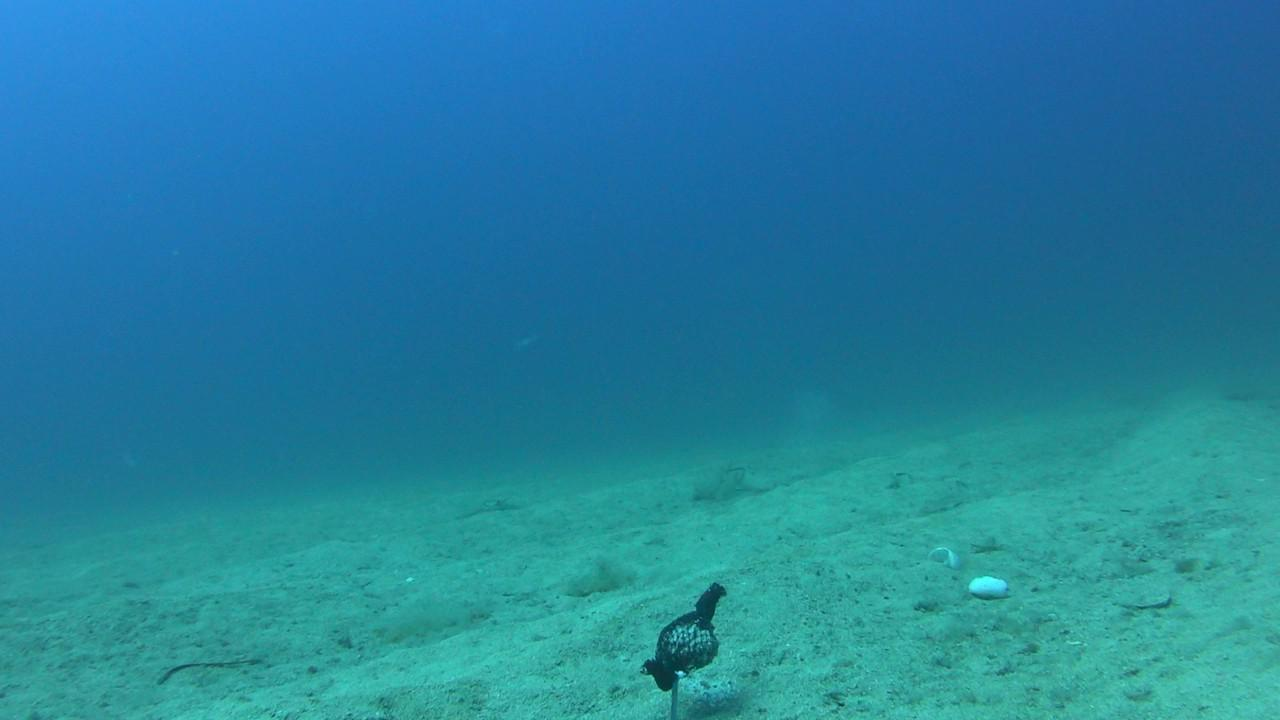myliobatis: (456, 472, 554, 530)
